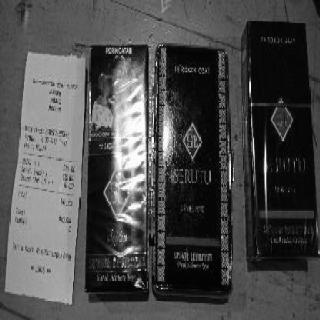objects: (154, 45, 232, 296), (241, 19, 319, 259), (85, 45, 148, 292)
